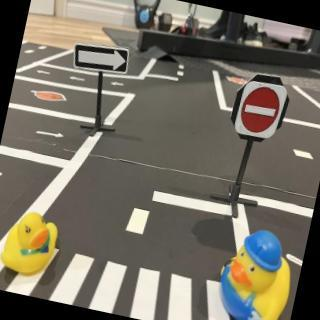duck_regular: (1, 208, 65, 283)
duck_specialty: (211, 224, 301, 320)
road_crosswalk: (4, 237, 247, 320)
road_oneway: (35, 128, 68, 145), (34, 65, 54, 78), (67, 73, 87, 86), (110, 79, 127, 90)
sign_noentry: (235, 80, 284, 142)
sign_oneway_right: (71, 40, 132, 80)
